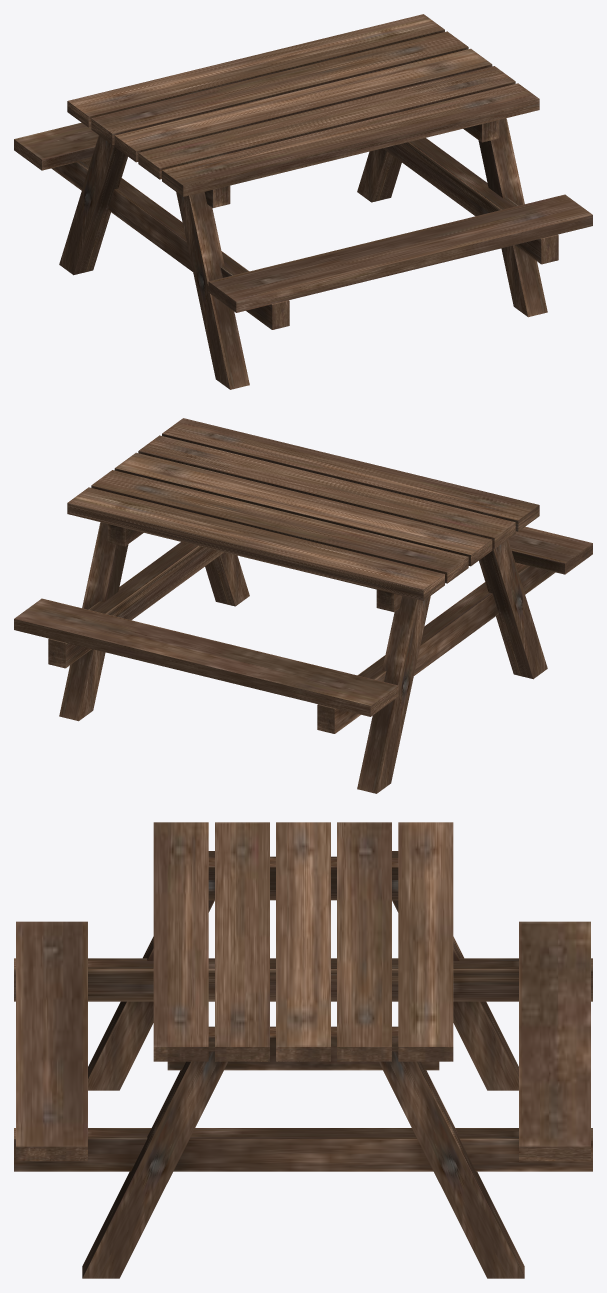
File: p_bench.glb
3 renders of one model, top to bottom at view 1: azimuth 30°, elevation 25°; view 2: azimuth 150°, elevation 25°; view 3: azimuth 270°, elevation 25°, orthographic. The views are drawn at different scales.
Parts seen in each view (by area): view 1: Plank 3.001__0; view 2: Plank 3.001__0; view 3: Plank 3.001__0.
Boxes of the visible parts, x1,y1,x2,y2 form: Plank 3.001__0: (14, 14, 592, 389); Plank 3.001__0: (14, 418, 592, 793); Plank 3.001__0: (14, 822, 592, 1278).
Bounding box in the file's own units: 18.79 × 9.5 × 20.44.
1 material, 1 textured.
